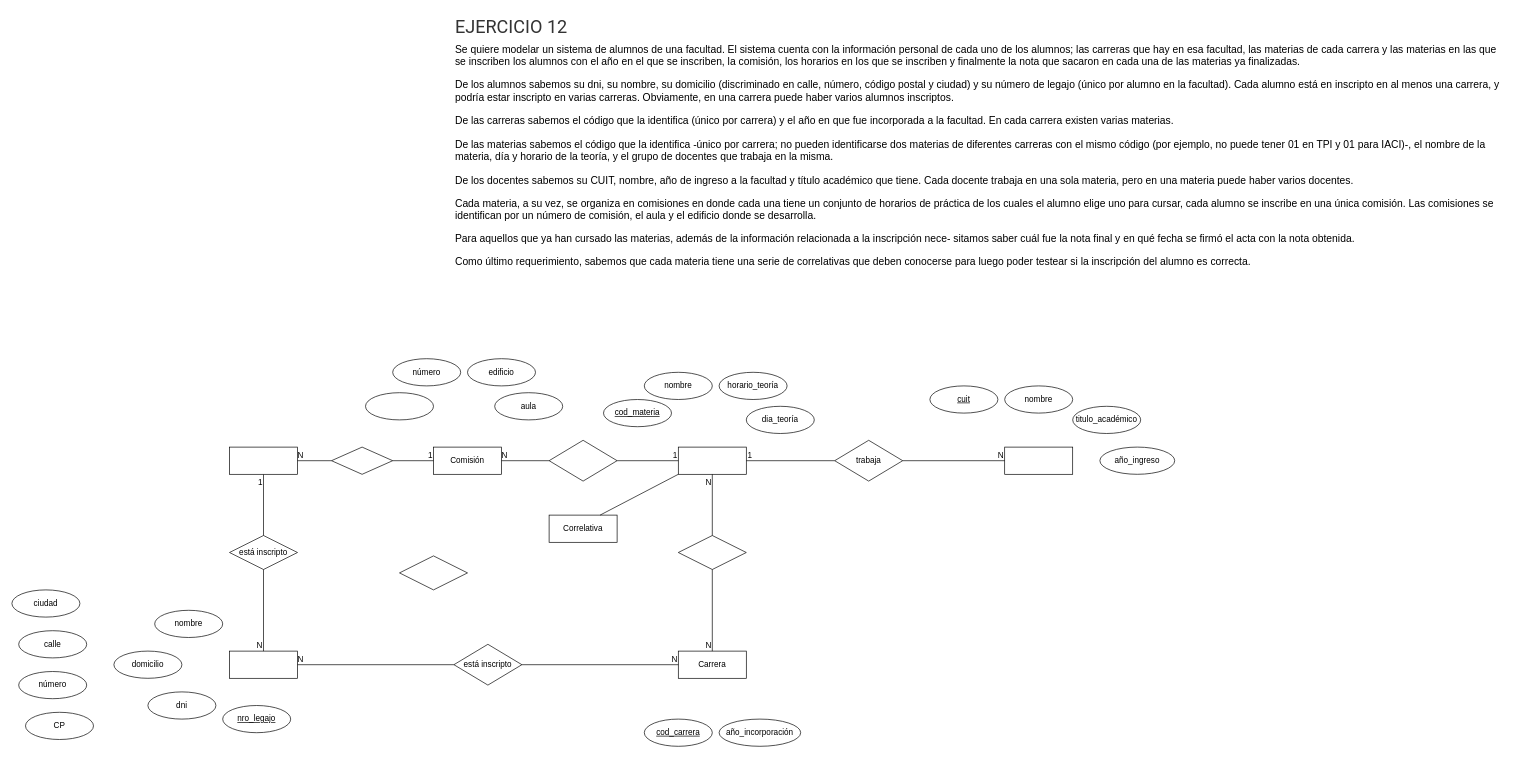
Some shapes in this 1520 by 758 pixel diagram are drawn without their labels. The shapes that lost their labels are listed below. From the top down, each one's centre as x and y in pixels, then its label:
pixel 399 406: cod_comisión
pixel 263 460: Horario_Práctica
pixel 362 460: tiene
pixel 582 460: pertenece
pixel 712 460: Materia
pixel 1038 460: Docente
pixel 433 572: cursó
pixel 712 552: está
pixel 263 664: Alumno
